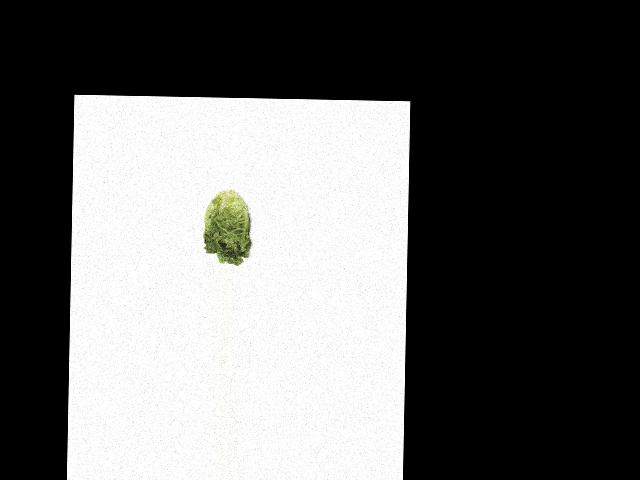lettuce: (198, 188, 255, 264)
